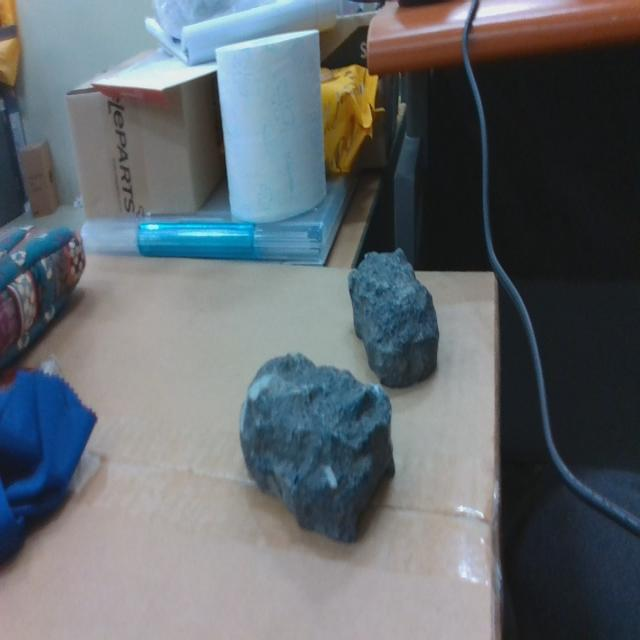stone: (238, 352, 396, 544), (347, 247, 440, 392)
